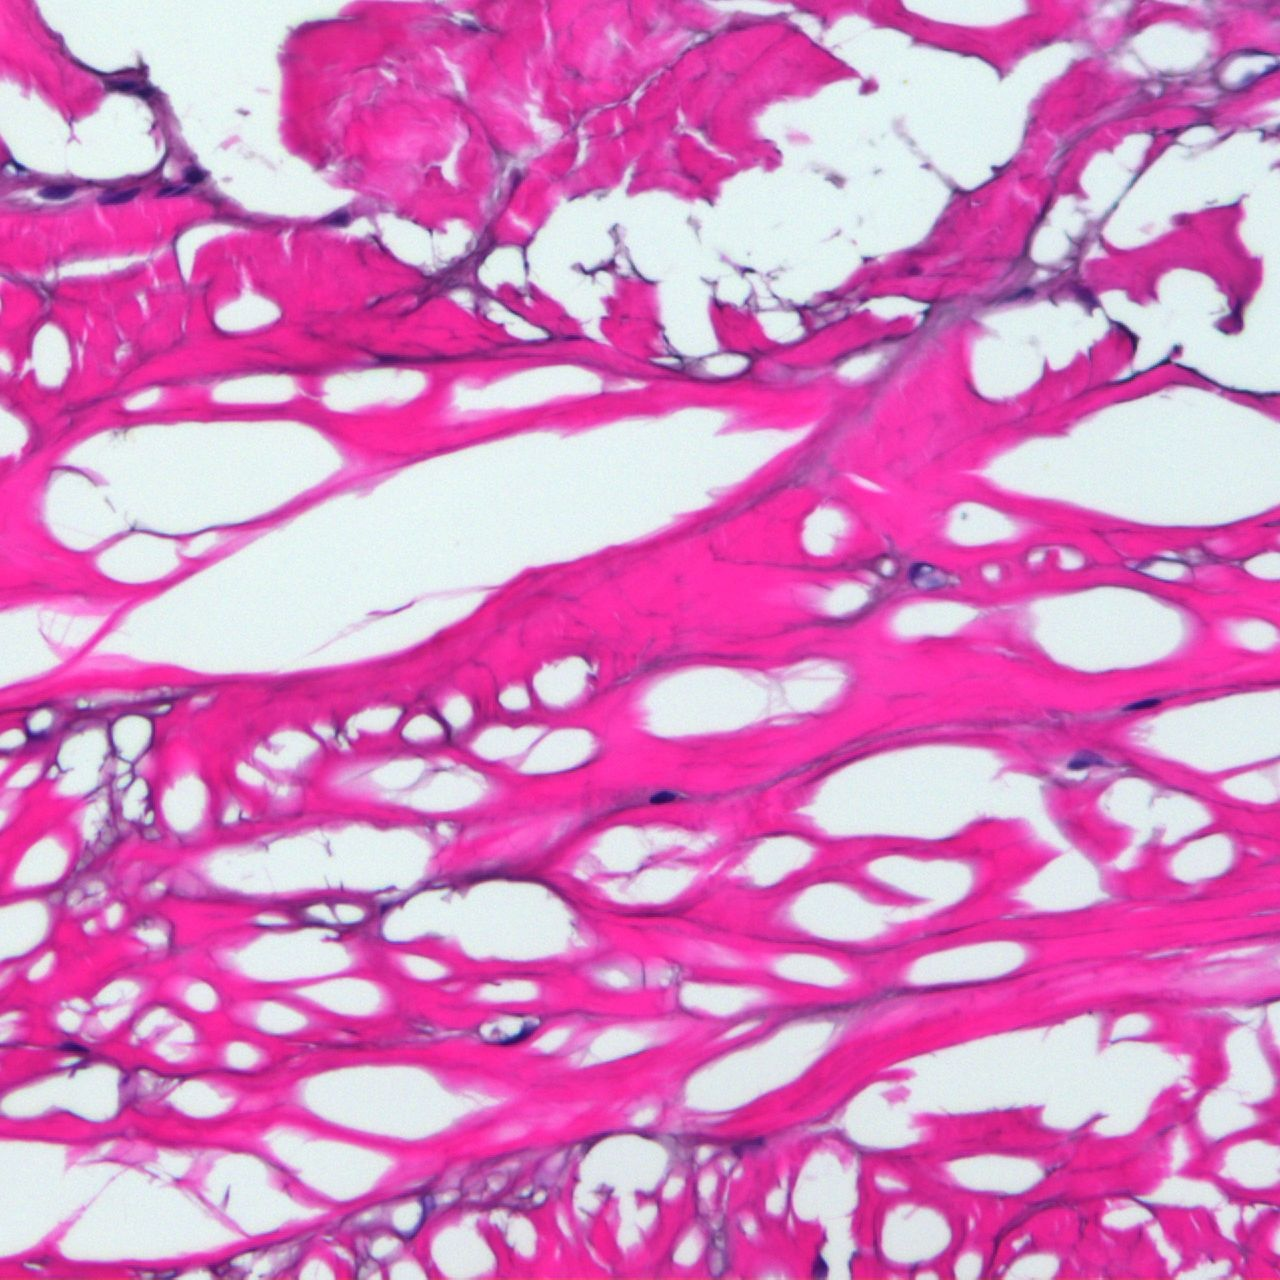nucleus-HE: (1122, 692, 1160, 717), (103, 185, 139, 210), (648, 788, 678, 806), (39, 185, 74, 199), (61, 1040, 91, 1054), (812, 1254, 828, 1280), (134, 84, 156, 102), (182, 168, 205, 183), (107, 81, 137, 91), (327, 213, 348, 226), (156, 183, 173, 197)
